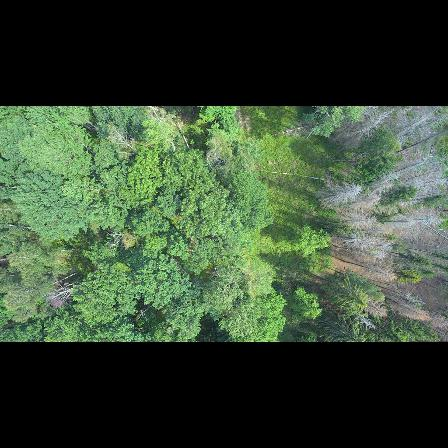Dead: (389, 106, 442, 140), (347, 106, 394, 144), (396, 127, 448, 154), (371, 282, 424, 304), (346, 260, 396, 280), (111, 125, 142, 157), (329, 227, 367, 251), (319, 186, 363, 206), (45, 284, 79, 308), (400, 172, 448, 189), (389, 156, 427, 177), (414, 309, 447, 331), (375, 215, 418, 230), (403, 189, 444, 204), (364, 179, 398, 197), (397, 212, 438, 226)
